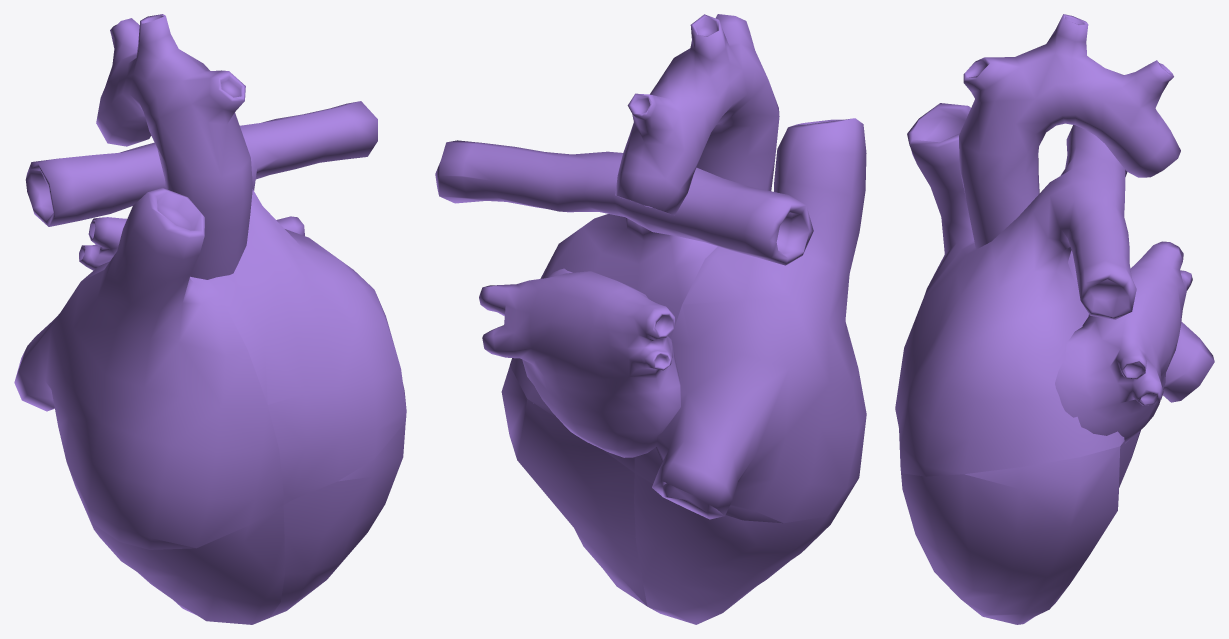
File: FINAL_CorazónFInal_v3.fbx
The picture shows the model from 3 angles, left to right: view 1: azimuth 30°, elevation 25°; view 2: azimuth 150°, elevation 25°; view 3: azimuth 270°, elevation 25°; orthographic projection. The views are drawn at different scales.
Parts seen in each view (by area): view 1: AuriculaIZ, AuriculaDR, Aorta, VentriculoIZ, VentriculoDR, VenasPulmonares; view 2: AuriculaIZ, AuriculaDR, VenasPulmonares, Aorta, VentriculoIZ, VentriculoDR; view 3: AuriculaDR, VentriculoDR, Aorta, VenasPulmonares, AuriculaIZ.
Boxes of the visible parts, x1=… form: AuriculaIZ: x1=14, y1=188, x2=283, y2=549; AuriculaDR: x1=25, y1=101, x2=406, y2=504; Aorta: x1=96, y1=14, x2=252, y2=279; VentriculoIZ: x1=78, y1=493, x2=284, y2=624; VentriculoDR: x1=270, y1=422, x2=405, y2=617; VenasPulmonares: x1=79, y1=216, x2=304, y2=270; AuriculaIZ: x1=634, y1=118, x2=866, y2=523; AuriculaDR: x1=435, y1=140, x2=813, y2=472; VenasPulmonares: x1=479, y1=268, x2=680, y2=457; Aorta: x1=615, y1=14, x2=779, y2=215; VentriculoIZ: x1=634, y1=473, x2=843, y2=624; VentriculoDR: x1=501, y1=366, x2=647, y2=606; AuriculaDR: x1=895, y1=125, x2=1136, y2=476; VentriculoDR: x1=900, y1=431, x2=1139, y2=624; Aorta: x1=959, y1=14, x2=1180, y2=249; VenasPulmonares: x1=1055, y1=241, x2=1192, y2=443; AuriculaIZ: x1=907, y1=103, x2=1214, y2=402.
Bounding box in the file's own units: 240 × 412 × 207.
